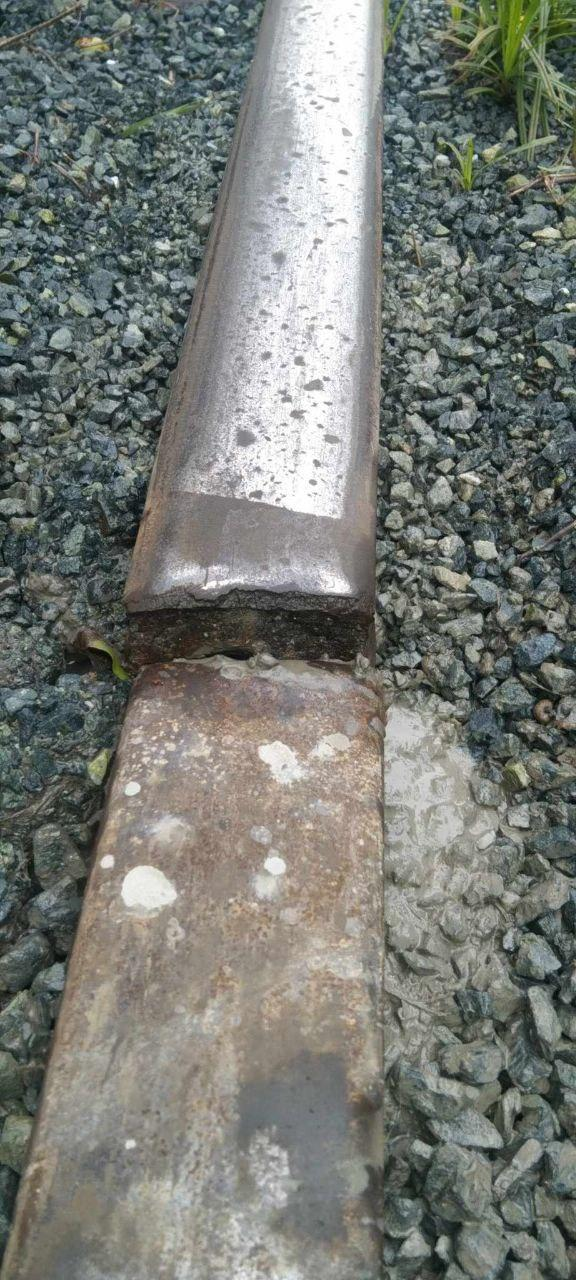railway-gap: (33, 421, 449, 822)
